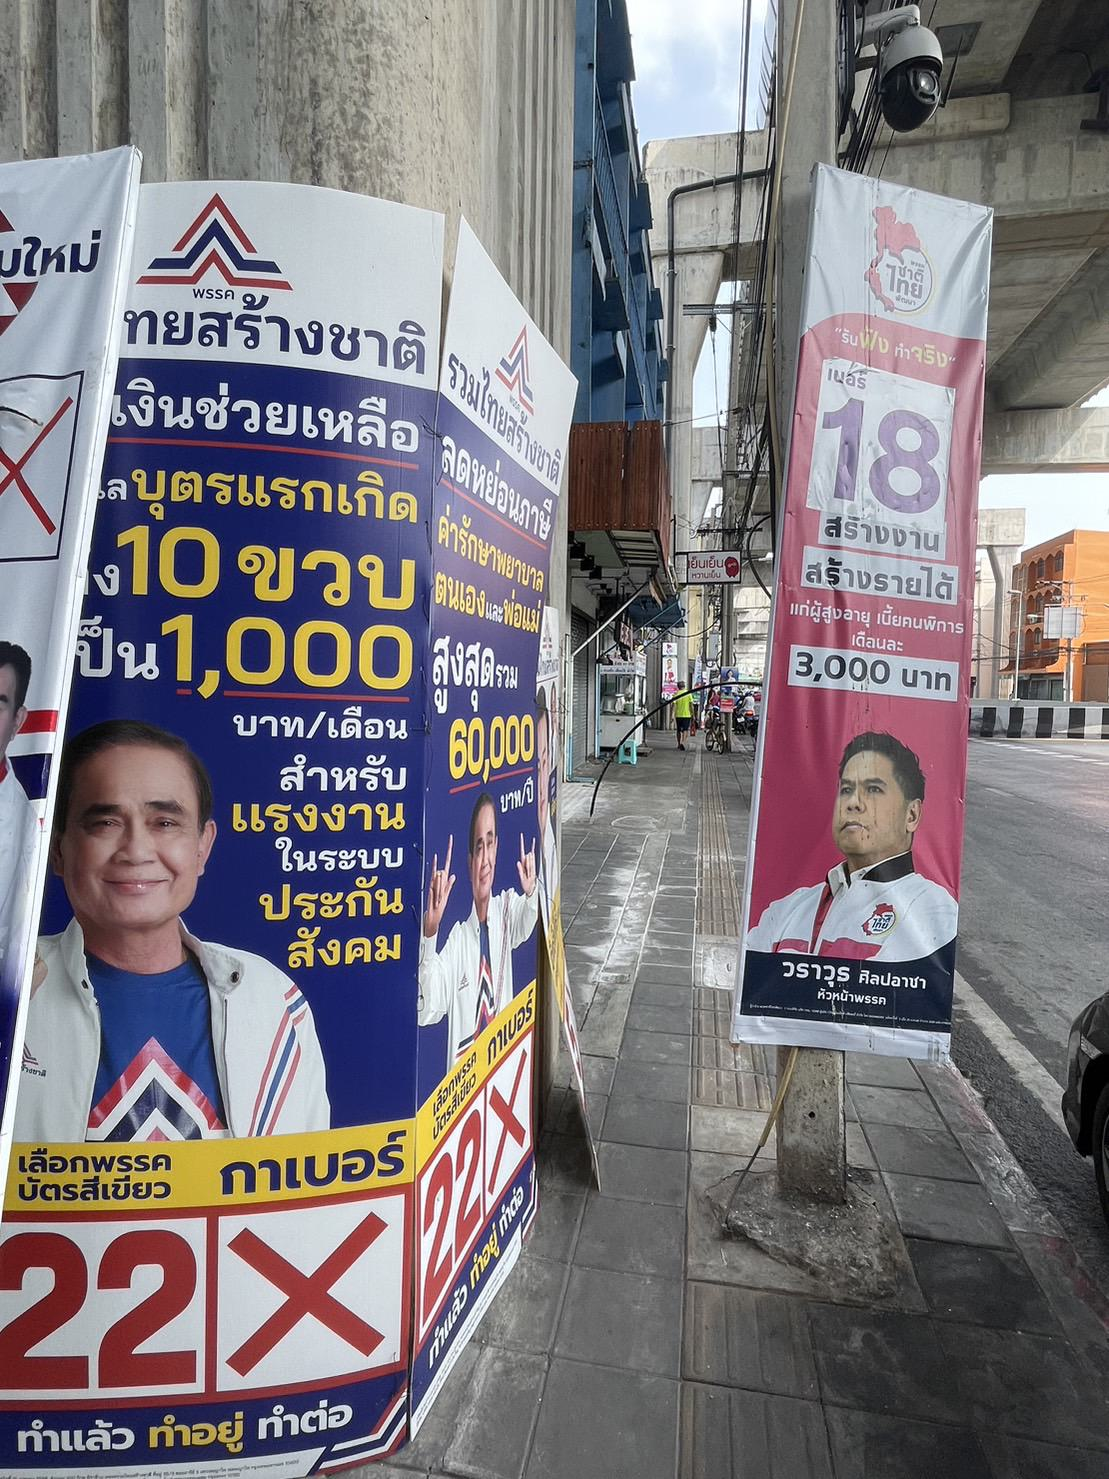Banner: (3, 163, 419, 1477), (733, 137, 965, 1017)
